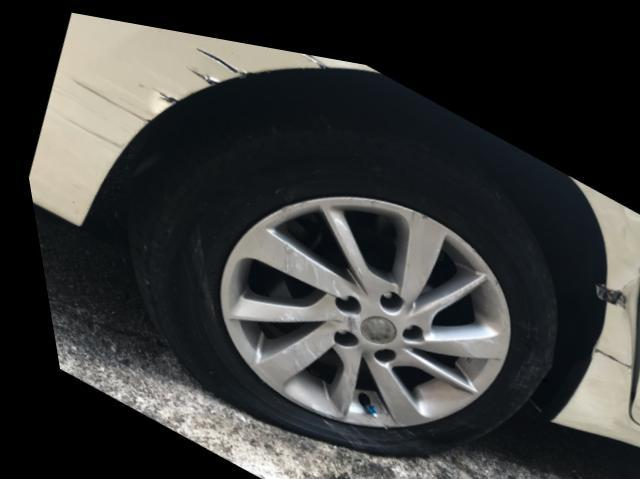scratch: (44, 38, 245, 149)
tire flat: (117, 90, 553, 447)
